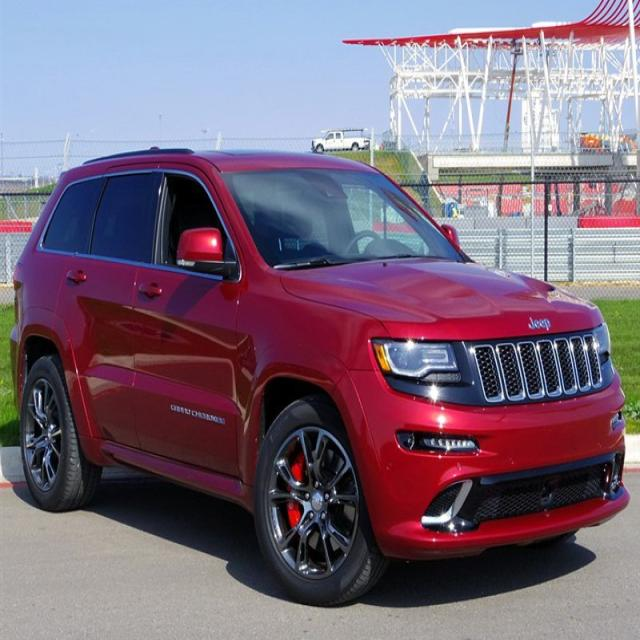door: (64, 173, 162, 458)
front_bumper: (330, 366, 630, 558)
front_glass: (221, 167, 463, 272)
front_left_side_light: (589, 320, 614, 362)
front_left_side_mirror: (439, 220, 461, 262)
front_right_side_door: (129, 158, 245, 483)
front_right_side_light: (370, 332, 472, 390)
front_right_side_mirror: (174, 226, 233, 274)
wheel: (254, 393, 384, 606), (20, 356, 102, 514)
